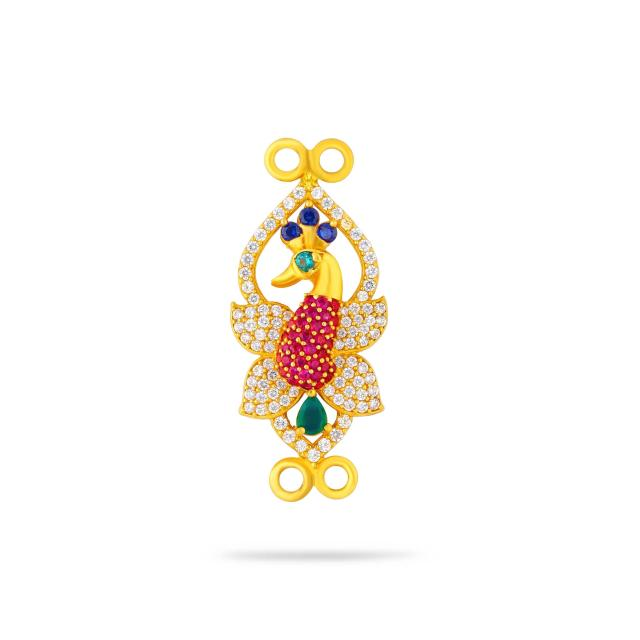missing gem: (341, 217, 352, 230), (303, 177, 314, 189)
